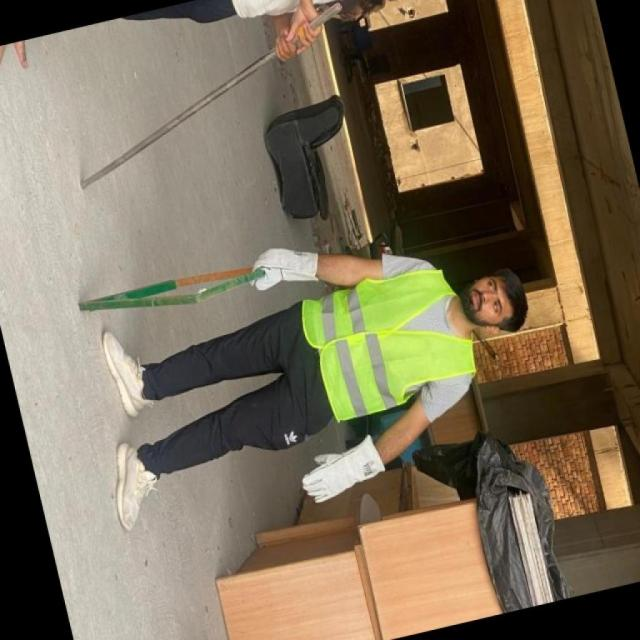Gloves-Detection: (303, 439, 378, 501), (242, 244, 323, 287)
